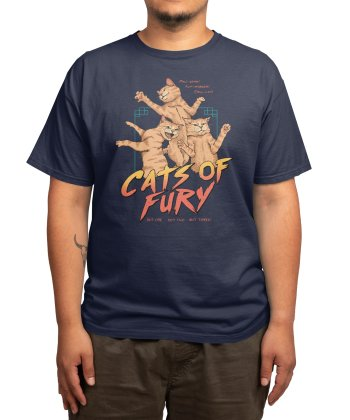design: (111, 75, 234, 227)
